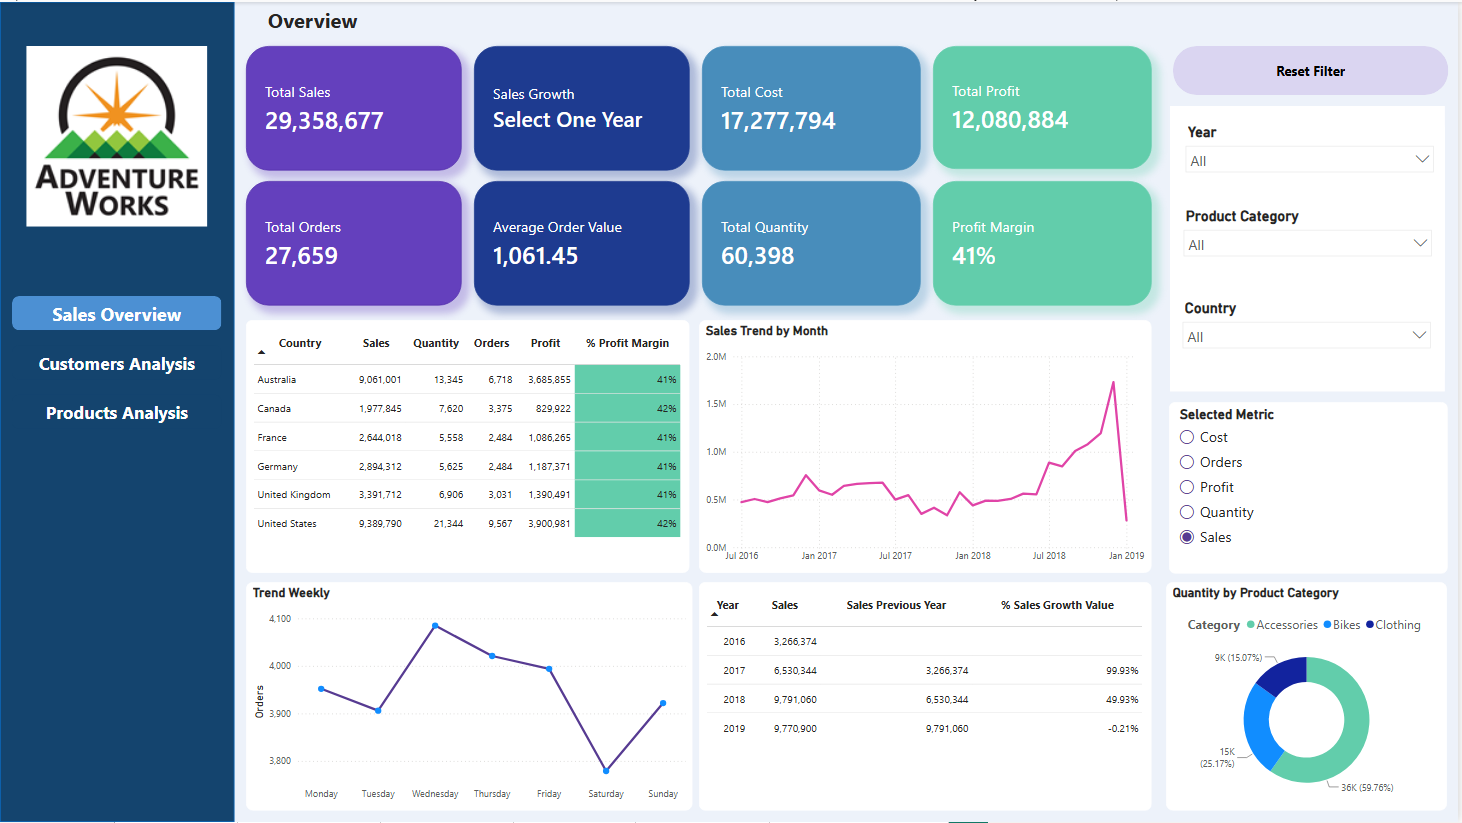

The dashboard page shown, as its layout file describes it:
{"tool":"powerbi","page":{"name":"Sales Overview","canvas":[1920,1080],"ordinal":0},"visuals":[{"type":"shape","box":[1541,137.5,362.2,375.6],"z":0},{"type":"shape","box":[0,0,308.8,1080],"z":1000,"group":"g1"},{"type":"textbox","box":[347.2,0,155.2,46.1],"z":1000},{"type":"cardVisual","fields":{"Data":["Table Measures.# Total Orders"]},"box":[324.2,235.4,283.7,164],"z":2000},{"type":"cardVisual","fields":{"Data":["Table Measures.$ Total Sales"]},"box":[324.2,57.9,283.7,164],"z":3000},{"type":"cardVisual","fields":{"Data":["Table Measures.# Average Order Value"]},"box":[624.6,235.4,283.7,164],"z":4000},{"type":"cardVisual","fields":{"Data":["Table Measures.$ Total Cost"]},"box":[924.9,57.9,287.5,164],"z":5000},{"type":"cardVisual","fields":{"Data":["Table Measures.# Total Quantity"]},"box":[924.9,235.4,287.5,164],"z":6000},{"type":"cardVisual","fields":{"Data":["Table Measures.$ Total profit"]},"box":[1229.2,57.9,287.5,162.1],"z":7000},{"type":"cardVisual","fields":{"Data":["Table Measures.% Profit Margin"]},"box":[1229.2,235.4,287.5,164],"z":8000},{"type":"tableEx","fields":{"Values":["Date Lookup.Date.Variation.Date Hierarchy.Year","Table Measures.$ Total Sales","Table Measures.$ Sales Previous Year","Table Measures.% Sales Growth Value"]},"box":[920.2,763.5,596.1,301.1],"z":9000},{"type":"lineChart","title":"Trend Weekly","fields":{"Y":["Table Measures.# Total Orders"],"Category":["Date Lookup.DayName"]},"box":[324.2,763.5,588.4,301.1],"z":10000},{"type":"slicer","fields":{"Values":["Date Lookup.Date.Variation.Date Hierarchy.Year"]},"box":[1551.6,155.2,347.3,96.5],"z":11000},{"type":"slicer","fields":{"Values":["Territory Lookup.Country"]},"box":[1547.7,387.4,347.3,98.4],"z":12000},{"type":"slicer","fields":{"Values":["Product Categories Lookup.EnglishProductCategoryName"]},"box":[1549.4,266.6,347.3,100.3],"z":13000},{"type":"slicer","fields":{"Values":["Metric Selection.Metric Name"]},"box":[1539.3,526.9,367.2,225.8],"z":14000},{"type":"image","box":[15.4,58.4,276.5,238.1],"z":15000,"group":"g1"},{"type":"lineChart","fields":{"Y":["Table Measures.Selected Metric"],"Category":["Date Lookup.Date.Variation.Date Hierarchy.Year","Date Lookup.Date.Variation.Date Hierarchy.Quarter","Date Lookup.Date.Variation.Date Hierarchy.Month","Date Lookup.Date.Variation.Date Hierarchy.Day"]},"box":[920.2,419.4,596.1,333.4],"z":15000},{"type":"donutChart","title":"Quantity by Product Category","fields":{"Category":["Product Categories Lookup.EnglishProductCategoryName"],"Y":["Table Measures.# Total Quantity"]},"box":[1536.3,763.5,370.2,301.1],"z":16000},{"type":"tableEx","fields":{"Values":["Territory Lookup.Country","Table Measures.$ Total Sales","Table Measures.# Total Quantity","Table Measures.# Total Orders","Table Measures.$ Total Profit","Table Measures.% Profit Margin"]},"box":[324.2,419.4,583.8,333.4],"z":17000},{"type":"actionButton","box":[1545.5,58.4,362.6,64.5],"z":18000},{"type":"cardVisual","fields":{"Data":["Table Measures.Sales Growth Display"]},"box":[624.6,57.9,283.7,164],"z":19000},{"type":"pageNavigator","box":[15.4,387.1,276.5,176.7],"z":19000,"group":"g1"},{"type":"group","id":"g1","title":"Group 1","box":[0,0,308.8,1080],"z":20000}]}

Visuals, with their boxes in screenshot pixels (x1, y1, x2, y2), scaled from the page's 1920x1080 canvas onto the 1462x823 screenshot:
shape: (1173,105,1449,391)
shape: (0,0,235,822)
textbox: (264,0,383,35)
cardVisual - Table Measures.# Total Orders: (247,179,463,304)
cardVisual - Table Measures.$ Total Sales: (247,44,463,169)
cardVisual - Table Measures.# Average Order Value: (476,179,692,304)
cardVisual - Table Measures.$ Total Cost: (704,44,923,169)
cardVisual - Table Measures.# Total Quantity: (704,179,923,304)
cardVisual - Table Measures.$ Total profit: (936,44,1155,168)
cardVisual - Table Measures.% Profit Margin: (936,179,1155,304)
tableEx - Date Lookup.Date.Variation.Date Hierarchy.Year x Table Measures.$ Total Sales: (701,582,1155,811)
"Trend Weekly" lineChart: (247,582,695,811)
slicer - Date Lookup.Date.Variation.Date Hierarchy.Year: (1181,118,1446,192)
slicer - Territory Lookup.Country: (1179,295,1443,370)
slicer - Product Categories Lookup.EnglishProductCategoryName: (1180,203,1444,280)
slicer - Metric Selection.Metric Name: (1172,402,1452,574)
image: (12,45,222,226)
lineChart - Table Measures.Selected Metric x Date Lookup.Date.Variation.Date Hierarchy.Year: (701,320,1155,574)
"Quantity by Product Category" donutChart: (1170,582,1452,811)
tableEx - Territory Lookup.Country x Table Measures.$ Total Sales: (247,320,691,574)
actionButton: (1177,45,1453,94)
cardVisual - Table Measures.Sales Growth Display: (476,44,692,169)
pageNavigator: (12,295,222,430)
"Group 1" group: (0,0,235,822)
